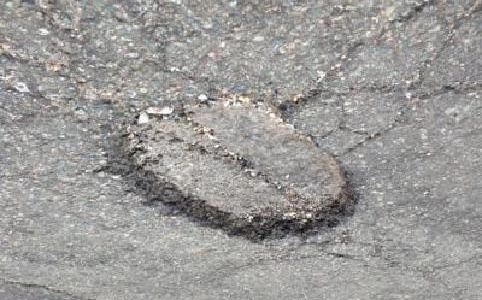pothole: (98, 92, 362, 248)
